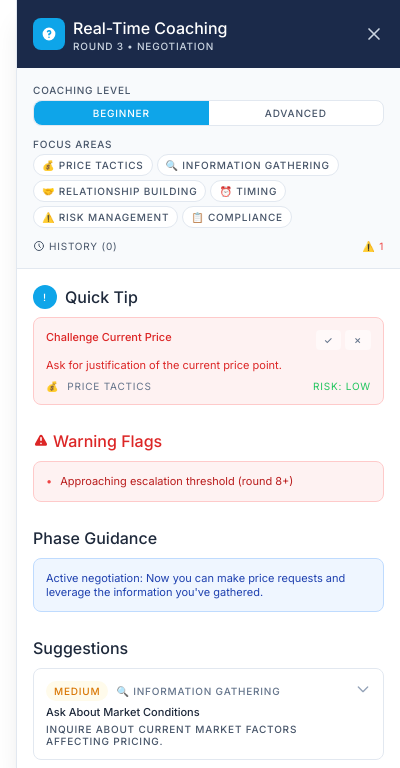
Scenario: CoachingPanel › History functionality › switches to history view when clicked
Click the button "History (0)". click: (75, 246)
box: [33,240,118,252]
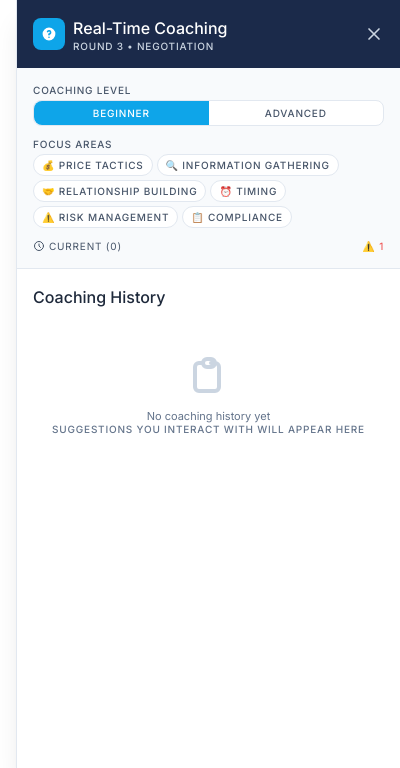
Check: the heading "Coaching History" is shown, box [33,287,166,307]
Check: the text "No coaching history yet" is shown, box [147,409,270,423]
